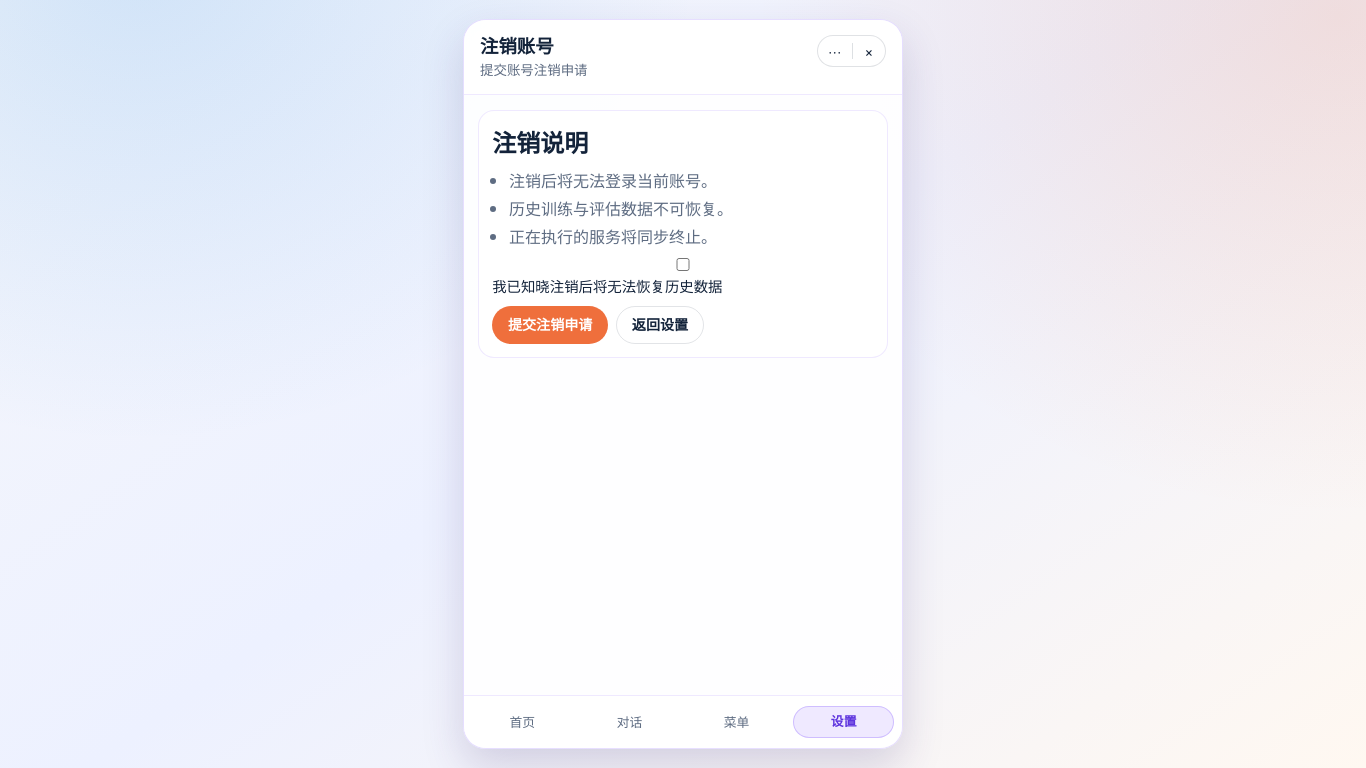
Test: AccountClosePage › requires confirmation before submitting closure request
Expected: the heading "注销账号" is shown, [480, 32, 554, 59]
Click the button "提交注销申请".
click(550, 325)  # box [492, 306, 608, 344]
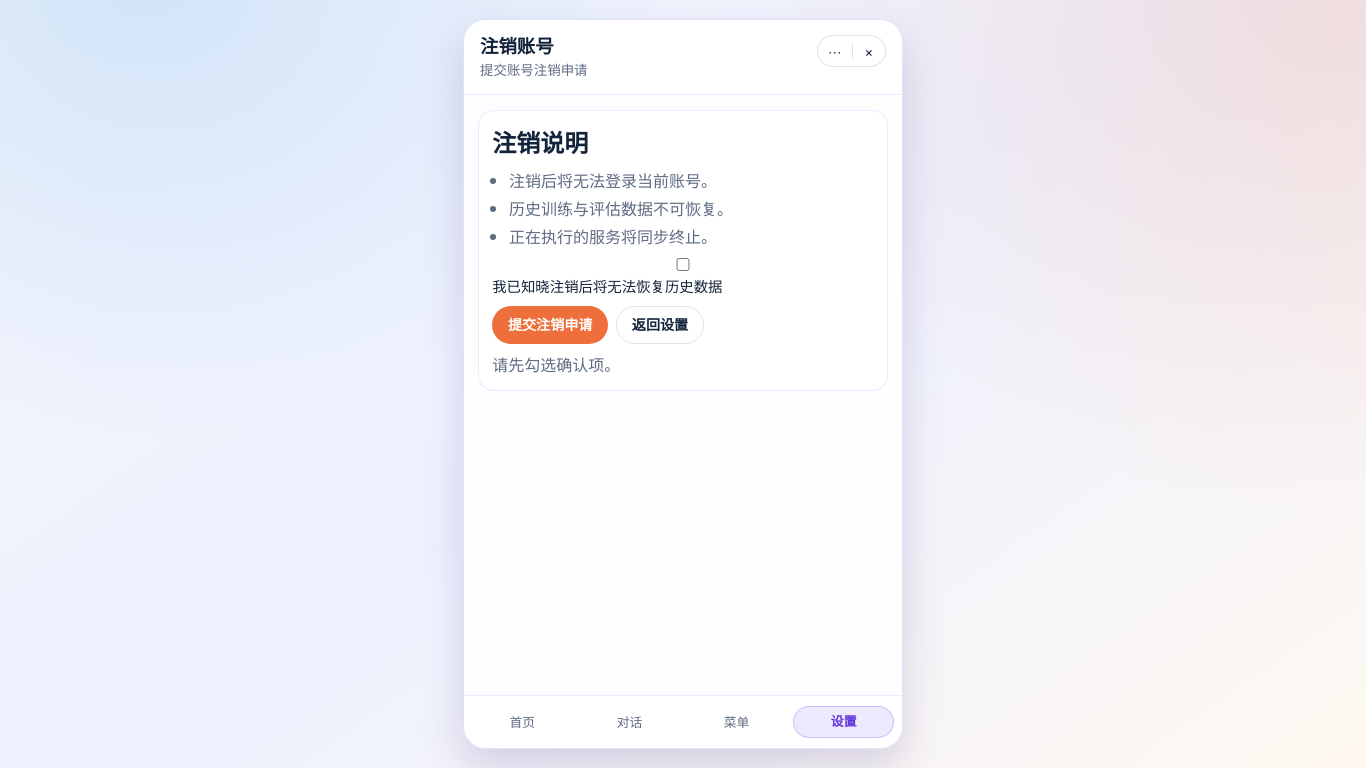
Now the text "请先勾选确认项。" is shown, box [492, 353, 620, 376]
Click the checkbox labelled "我已知晓注销后将无法恢复历史数据".
click(683, 265)  # box [492, 258, 874, 271]
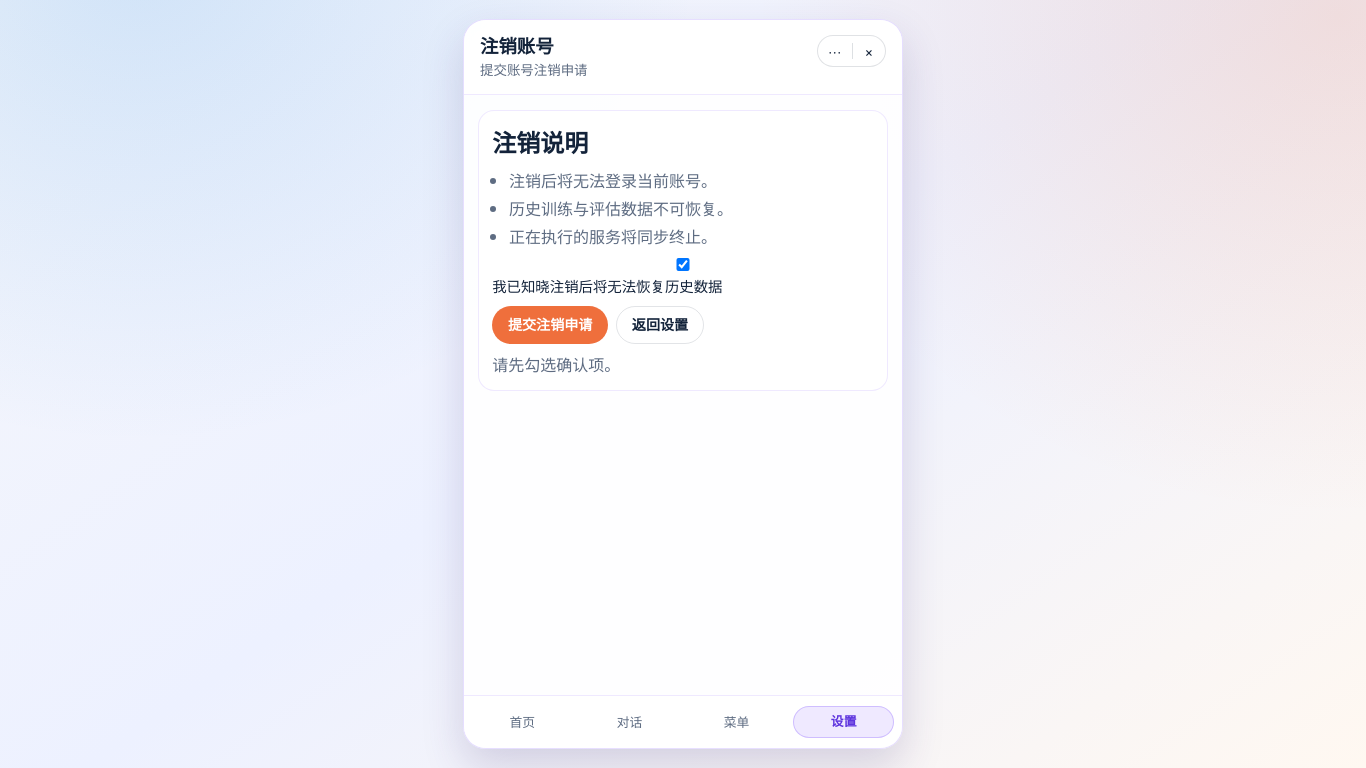
Click the button "提交注销申请".
click(550, 325)  # box [492, 306, 608, 344]
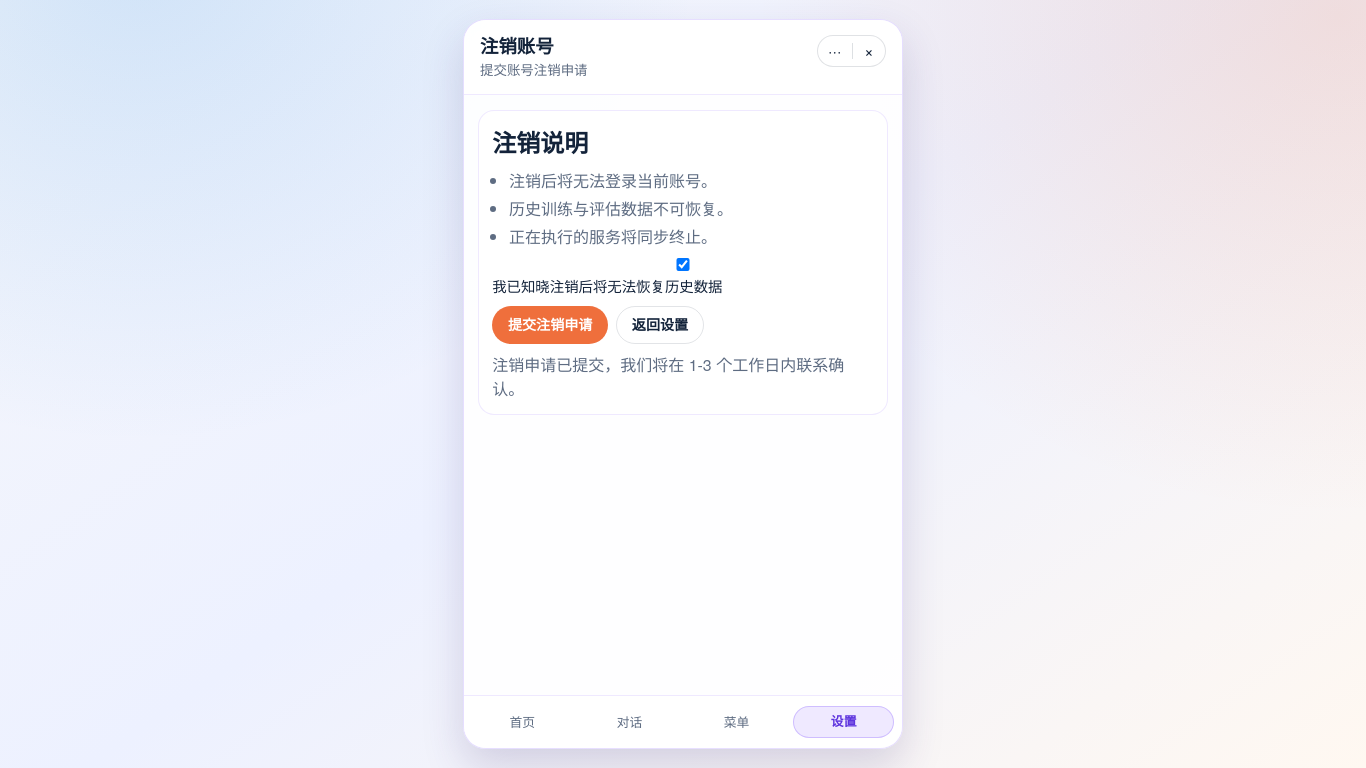
Now the text "注销申请已提交，我们将在 1-3 个工作日内联系确认。" is shown, box [492, 353, 874, 401]
